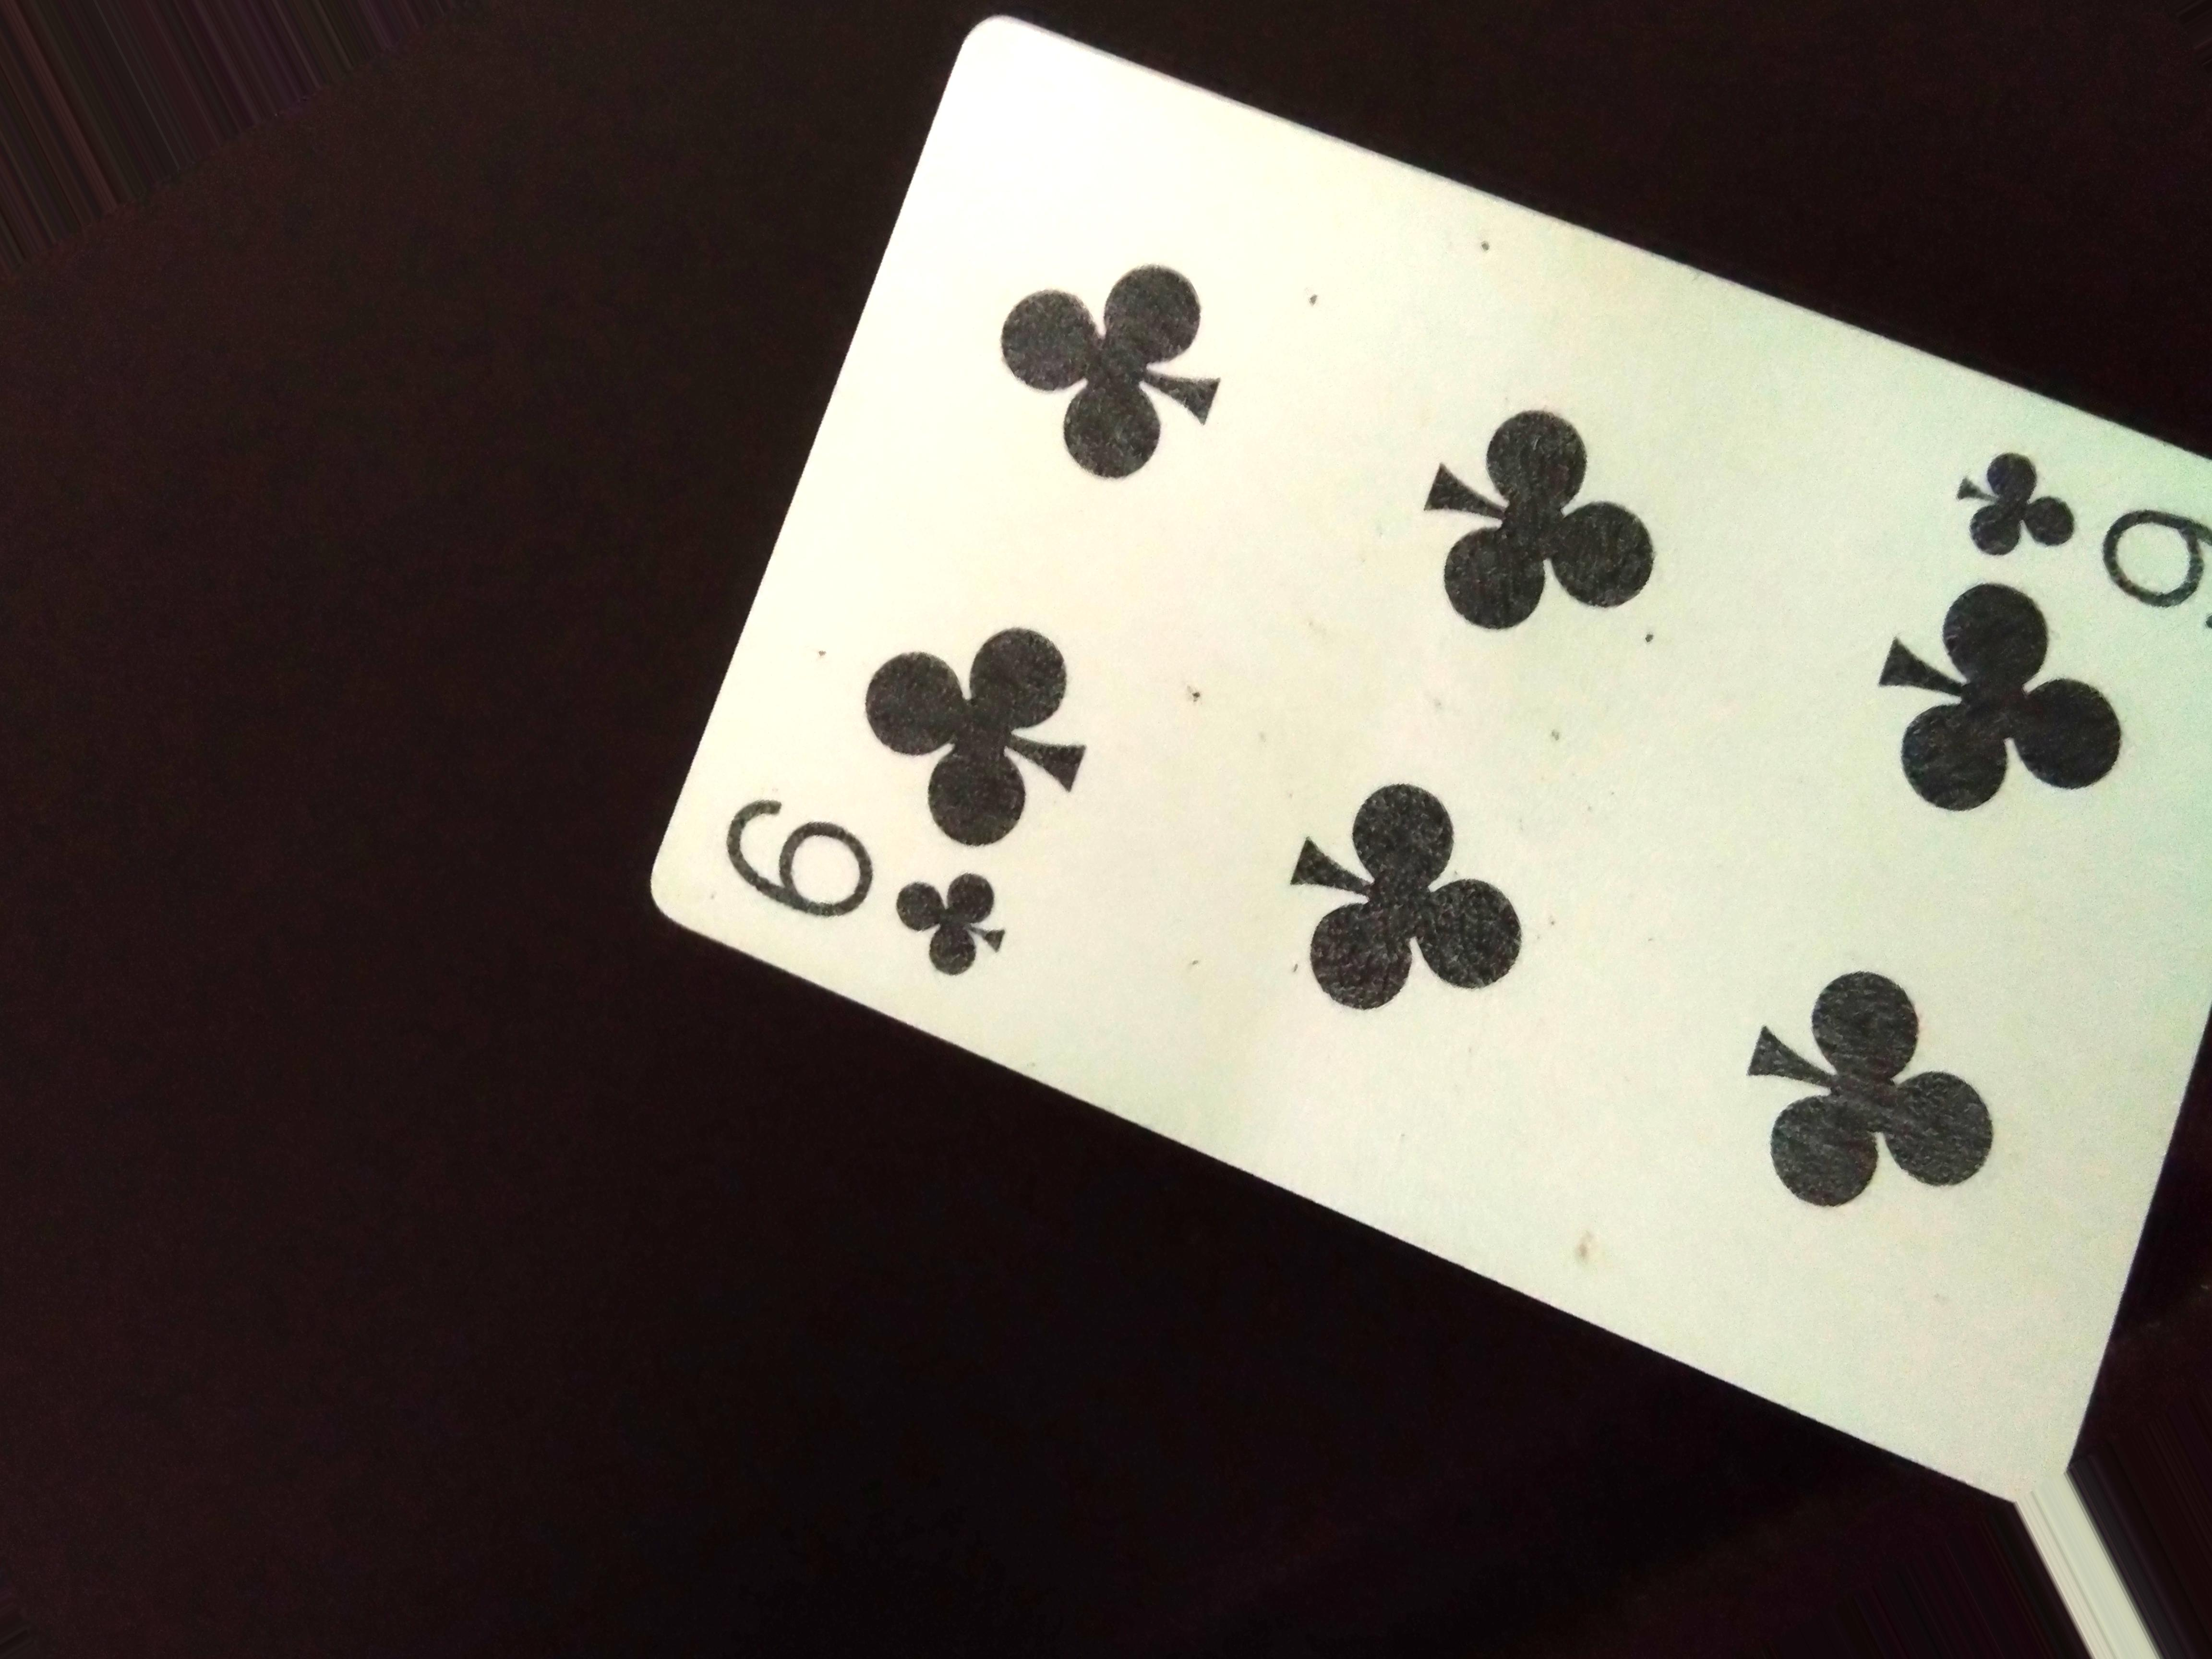6C: (726, 782, 1022, 1009)
